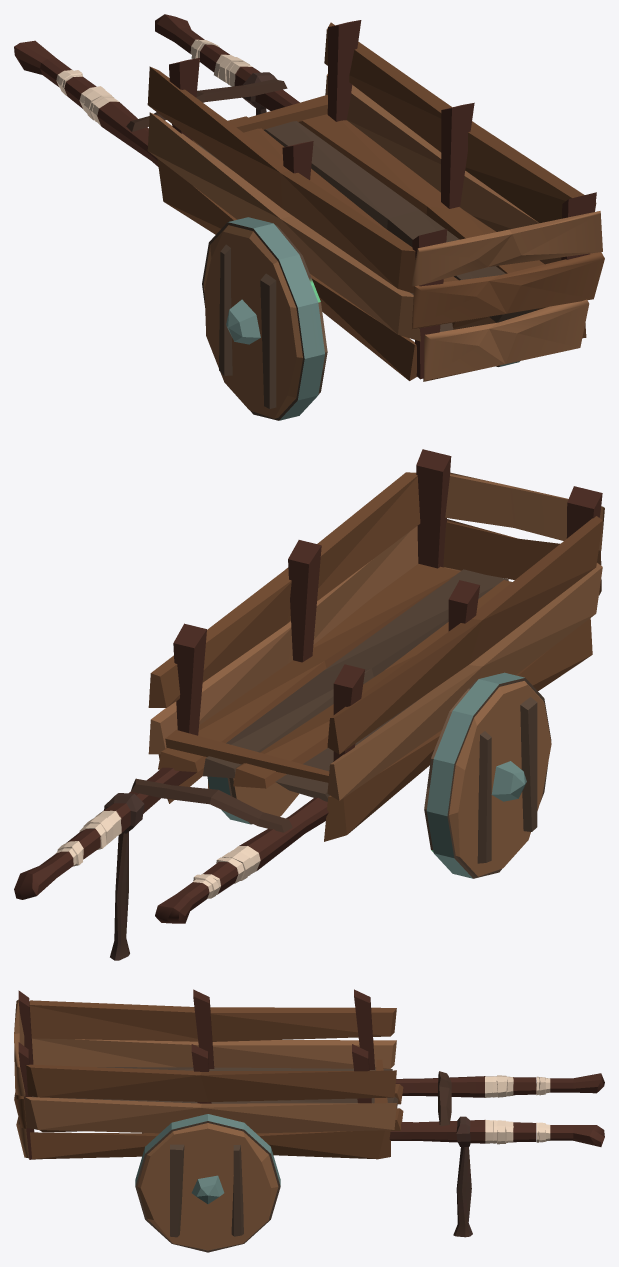
File: SM_L_Wagon.fbx
The picture shows the model from 3 angles, top to bottom: view 1: azimuth 30°, elevation 25°; view 2: azimuth 150°, elevation 25°; view 3: azimuth 270°, elevation 25°; orthographic projection. The views are drawn at different scales.
Parts seen in each view (by area): view 1: SM_L_Wagon; view 2: SM_L_Wagon; view 3: SM_L_Wagon.
Boxes of the visible parts, x1,y1,x2,y2 form: SM_L_Wagon: (14,14,604,420); SM_L_Wagon: (14,449,604,960); SM_L_Wagon: (14,989,604,1252).
Bounding box in the file's own units: 1.16 × 1.03 × 2.89.
